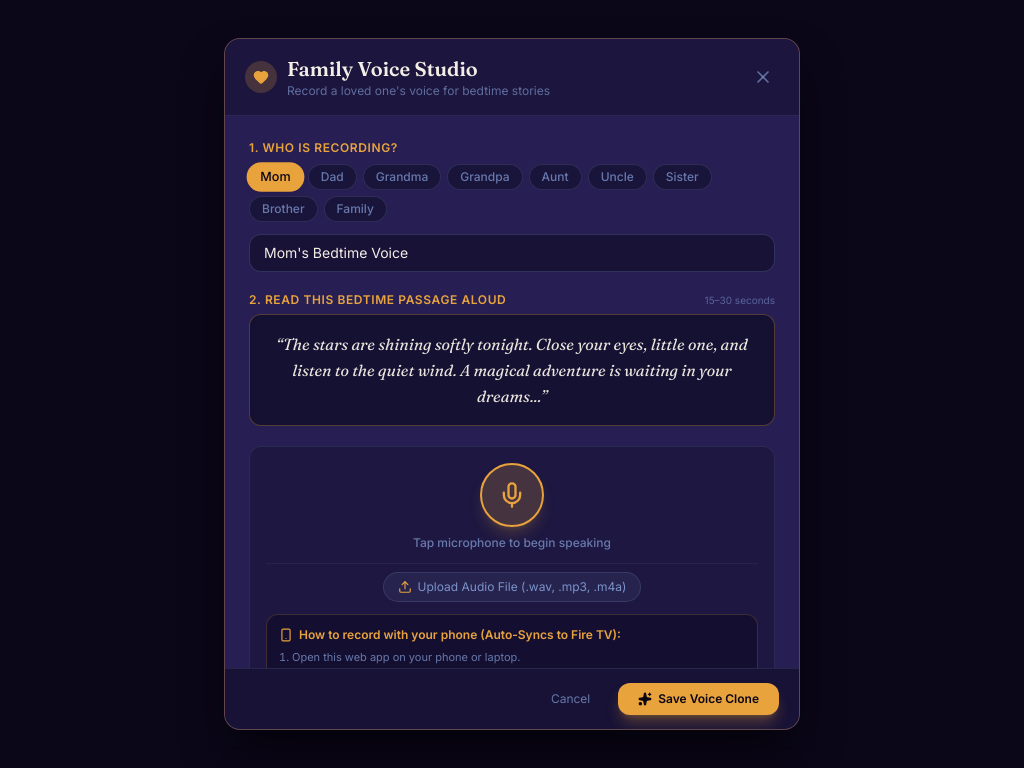
Scenario: Personalized Voice Clones (Family Voice Studio) › FamilyVoiceStudioModal component › updates role and input name when role buttons are clicked
Step 1. Click the button "Dad" → (332, 177), box [308,164,357,190]
(page scrolled)
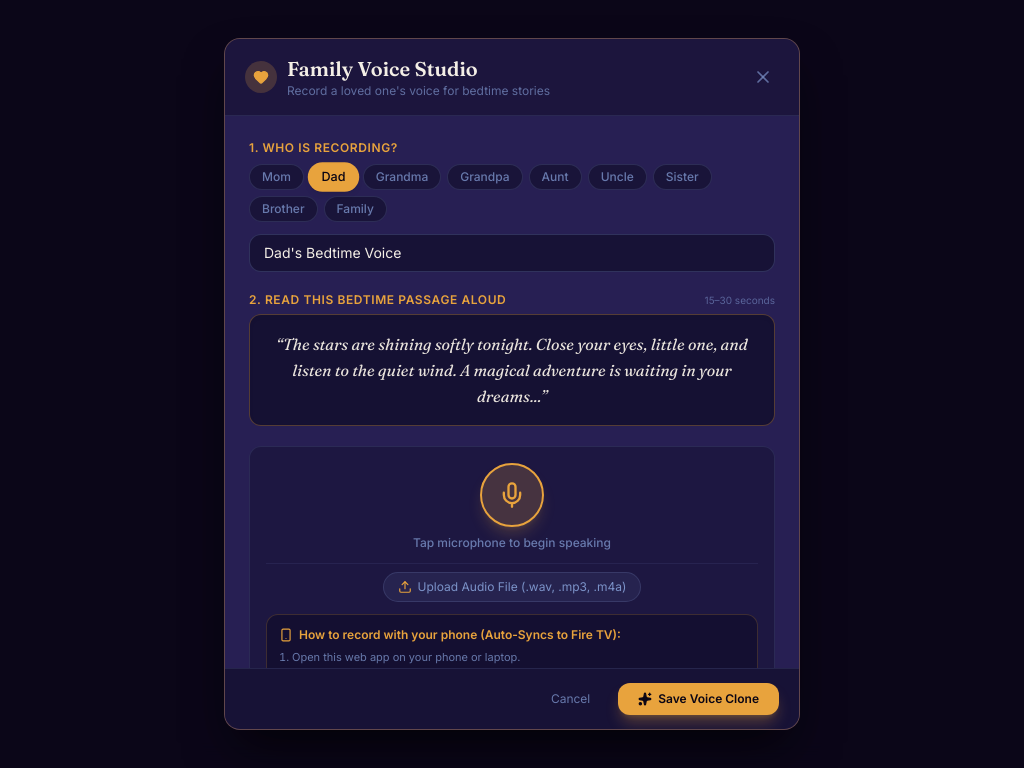
Expected: the field with test id "voice-name-input" holds "Dad's Bedtime Voice", [249,234,775,272]
